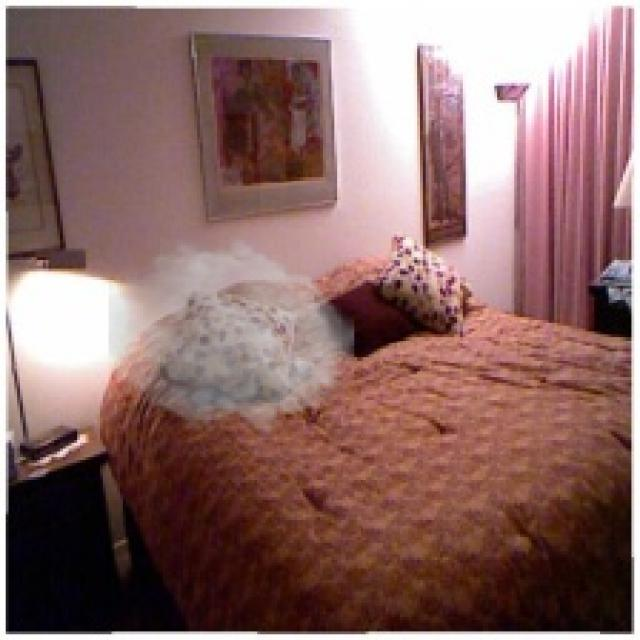smoke: (109, 232, 354, 437)
